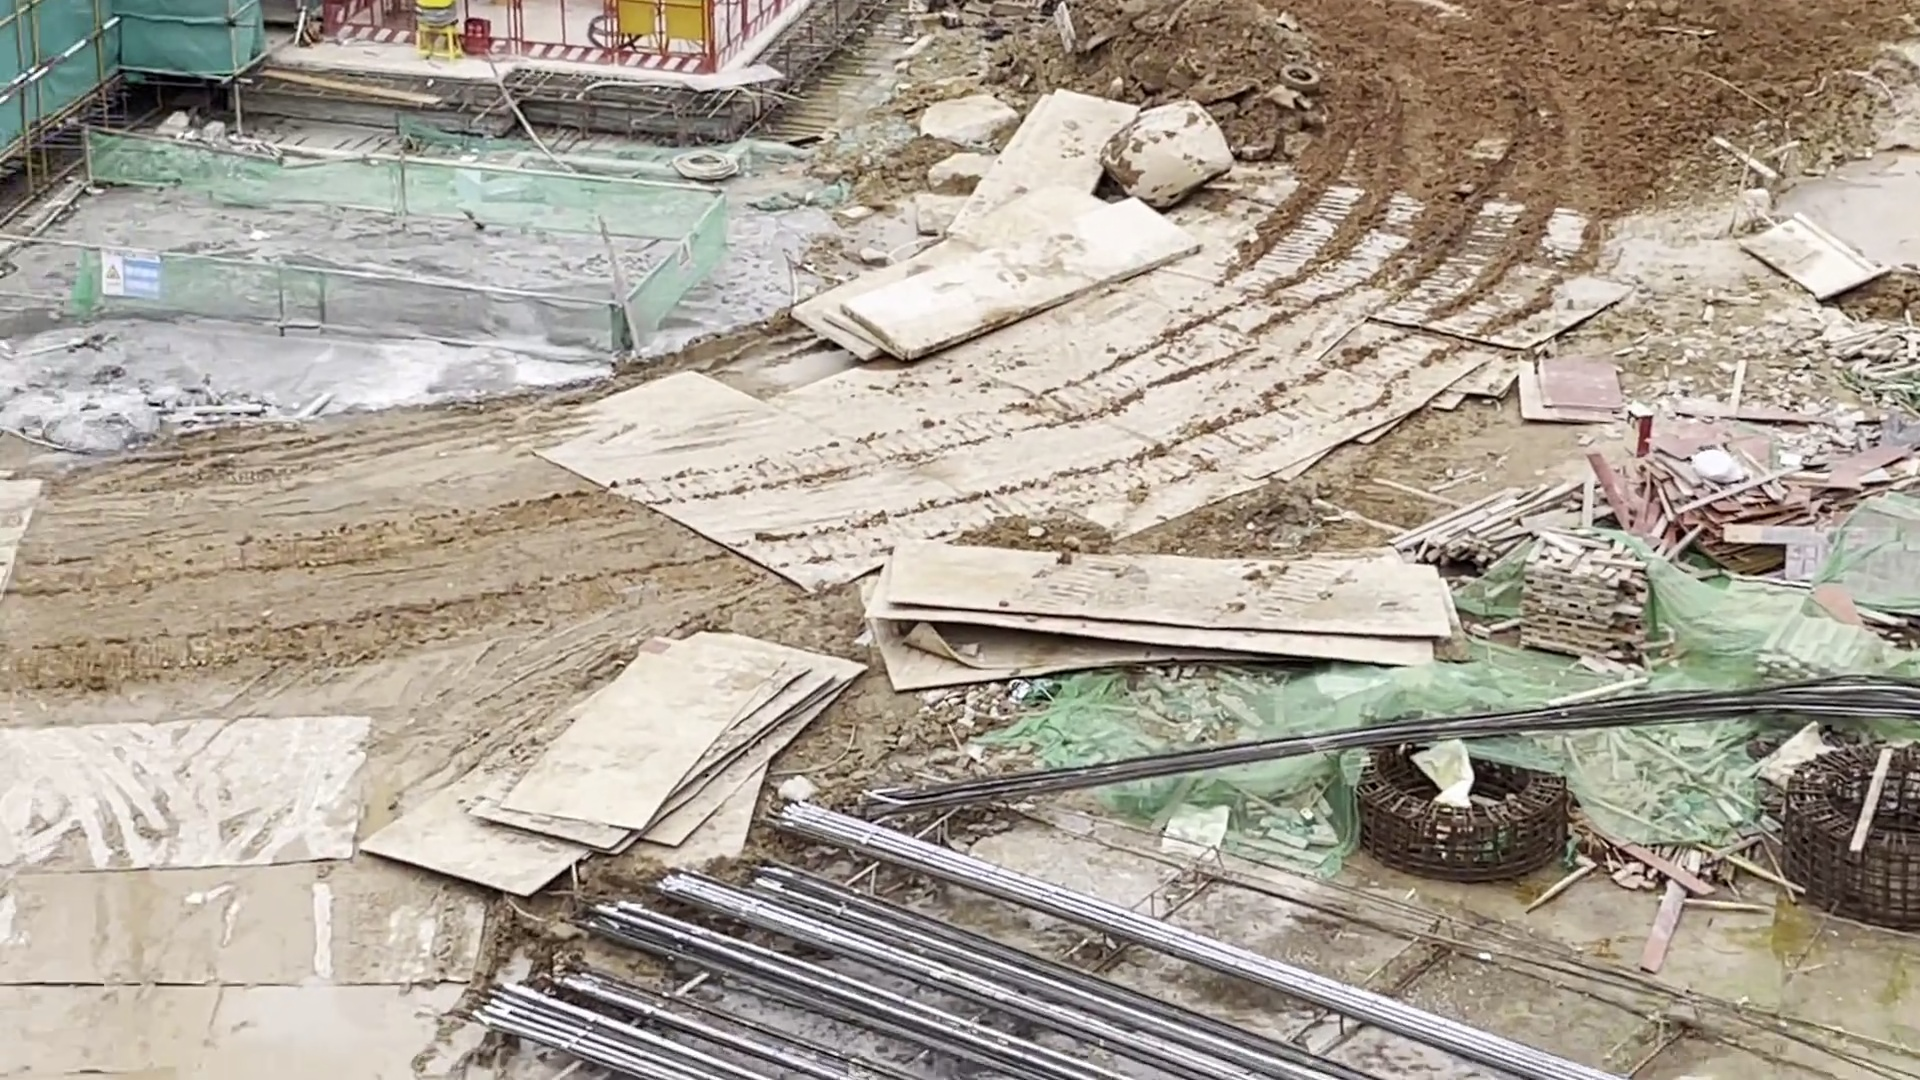rebar: (463, 857, 1374, 1080)
